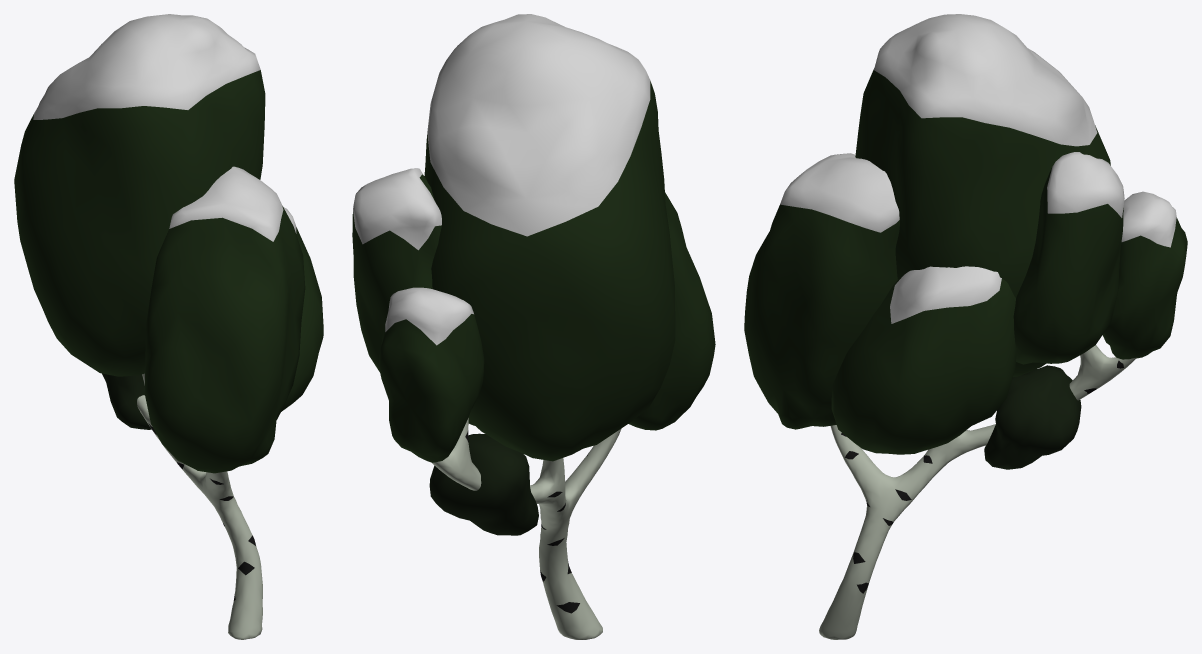
The model's file is BirchTree_Snow_1.fbx.
The picture shows the model from 3 angles, left to right: view 1: azimuth 30°, elevation 25°; view 2: azimuth 150°, elevation 25°; view 3: azimuth 270°, elevation 25°; orthographic projection. The views are drawn at different scales.
Parts seen in each view (by area): view 1: BirchTree_Snow_1; view 2: BirchTree_Snow_1; view 3: BirchTree_Snow_1.
Boxes of the visible parts, x1,y1,x2,y2 form: BirchTree_Snow_1: [14, 14, 323, 639]; BirchTree_Snow_1: [352, 14, 715, 639]; BirchTree_Snow_1: [744, 14, 1187, 639].
Size of the model in its own units: 281 by 420 by 627.
